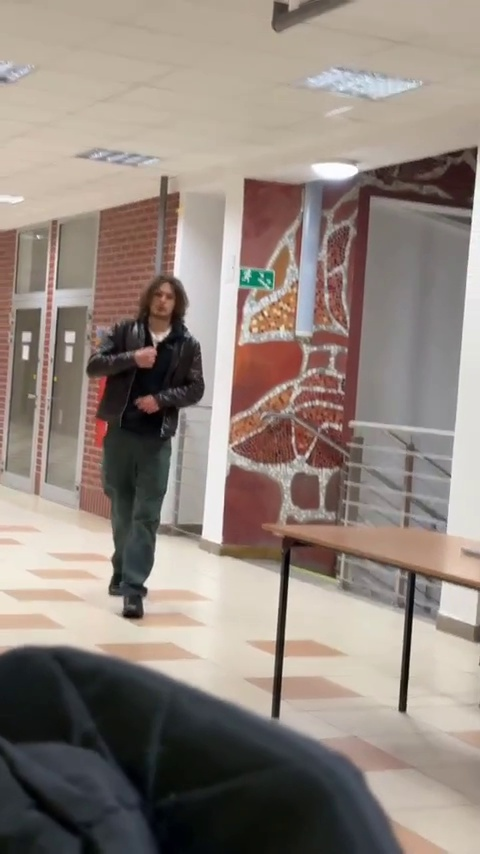no vest: (92, 276, 202, 616)
